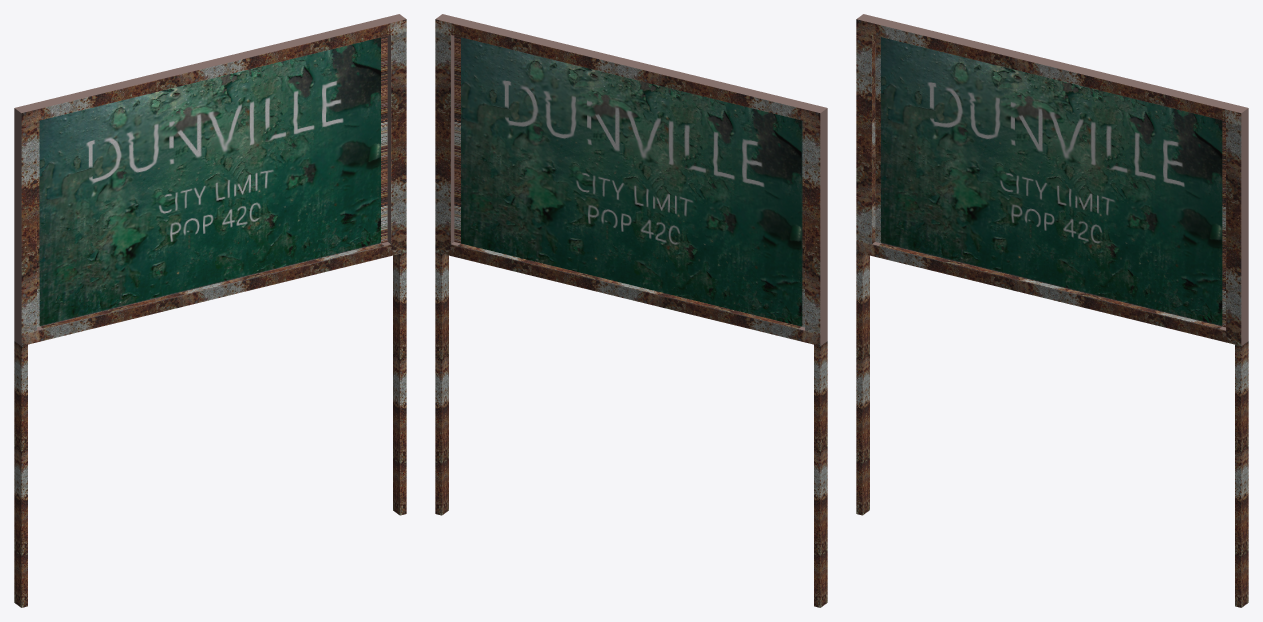
The model's file is citySign.fbx.
The picture shows the model from 3 angles, left to right: view 1: azimuth 30°, elevation 25°; view 2: azimuth 150°, elevation 25°; view 3: azimuth 330°, elevation 25°; orthographic projection.
Parts seen in each view (by area): view 1: polySurface1; view 2: polySurface1; view 3: polySurface1.
Part boxes in pixels (box(x1,y1,x2,y2)): polySurface1: box(14, 14, 406, 607); polySurface1: box(435, 14, 827, 607); polySurface1: box(856, 14, 1248, 607).
Bounding box in the file's own units: 30.91 × 37.94 × 1.
Materials: 1 (1 with a texture image).
